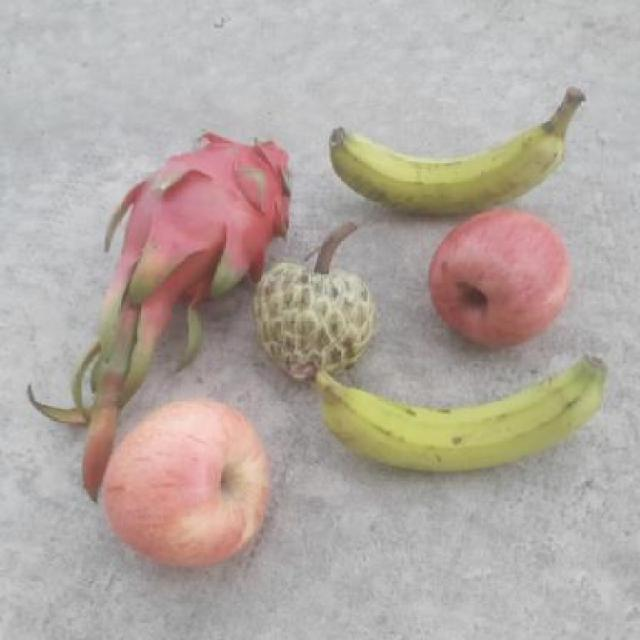apple: (98, 398, 272, 580), (426, 206, 576, 352)
banana: (290, 352, 612, 472), (326, 86, 582, 220)
dragon fruit: (108, 134, 292, 318)
sugar apple: (252, 219, 377, 384)
